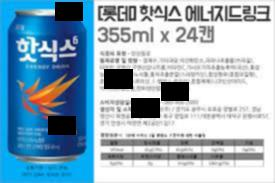hotsix_org: (7, 10, 89, 159)
